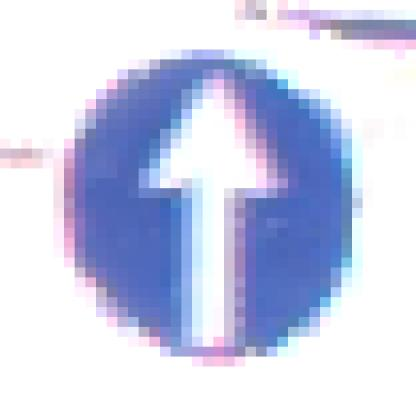AheadOnly: (54, 51, 364, 368)
